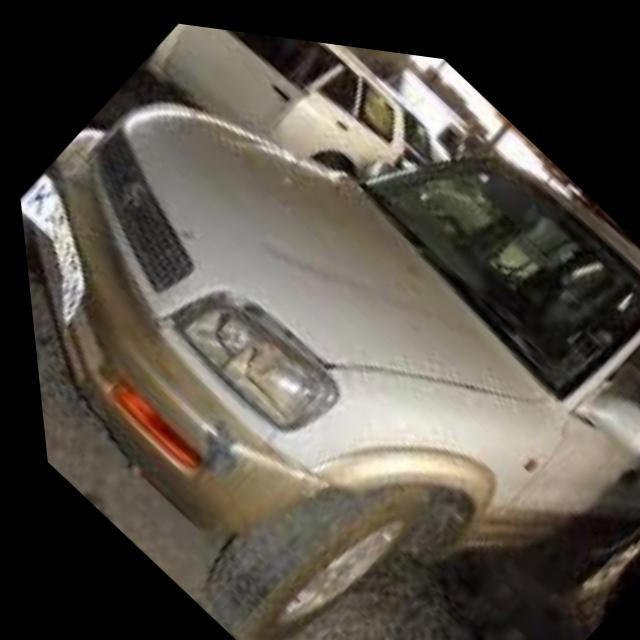dislocated part: (184, 406, 245, 472)
